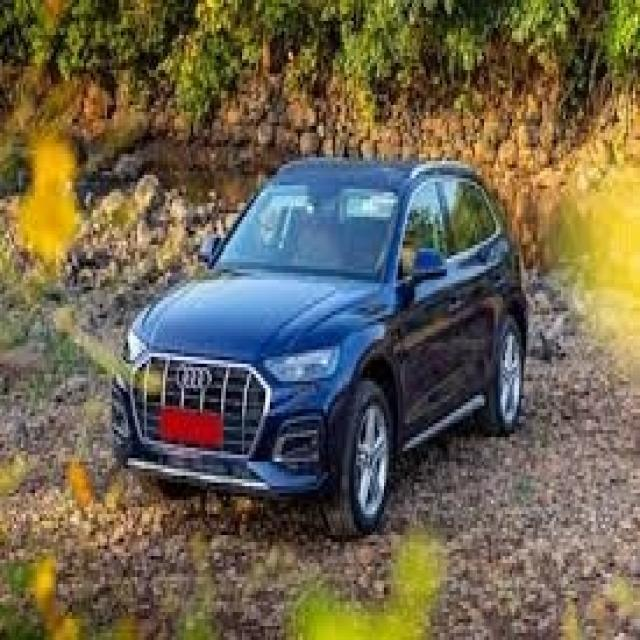black: (131, 142, 559, 488)
